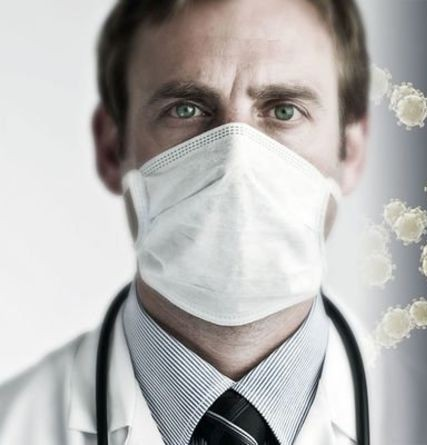with_mask: (100, 24, 368, 329)
